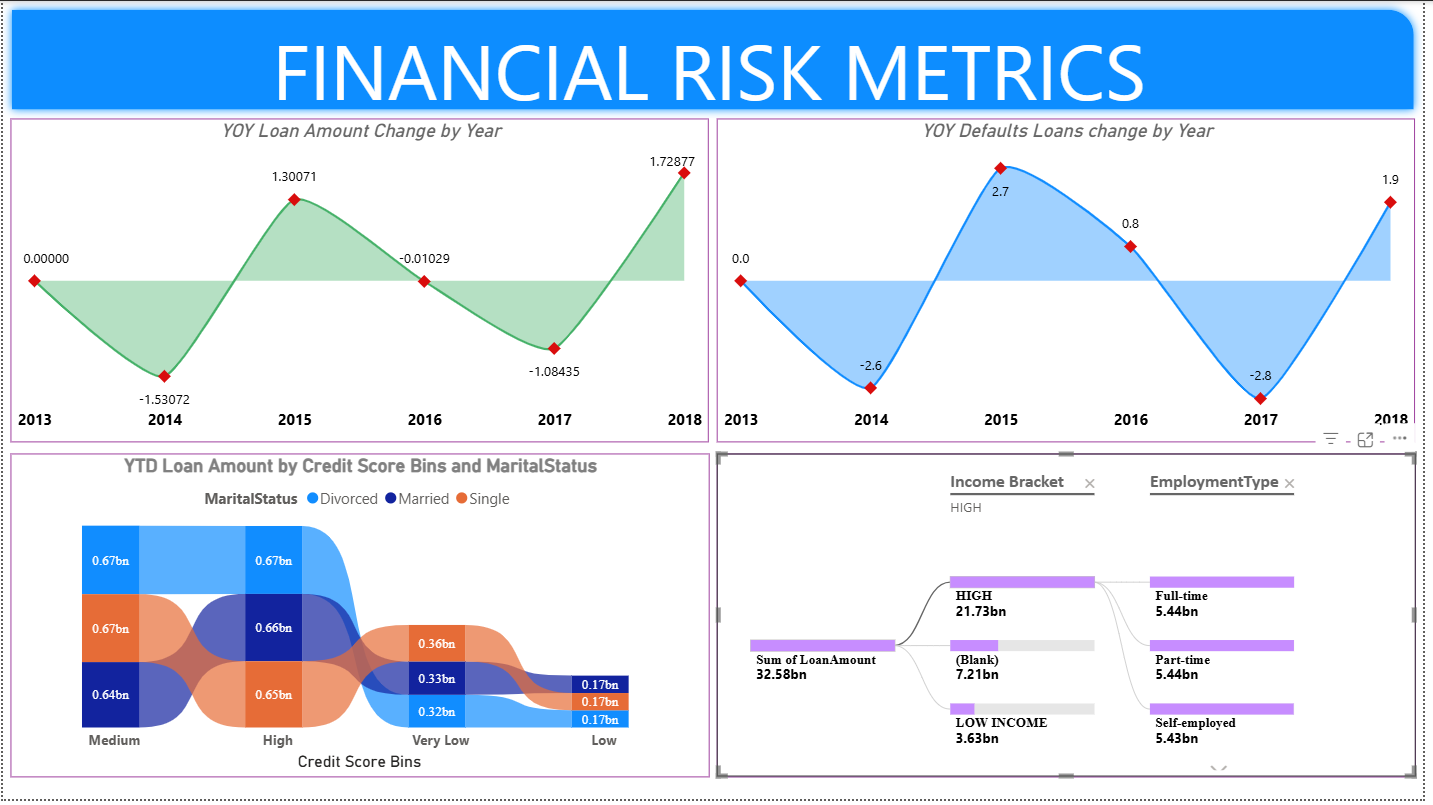

The dashboard page shown, as its layout file describes it:
{"tool":"powerbi","page":{"name":"FINANCIAL  RISK METRICS","canvas":[1280,720],"ordinal":2},"visuals":[{"type":"shape","box":[0,0,1280,105.7],"z":0},{"type":"lineChart","fields":{"Y":["MEASURES Table 3.YOY Loan Amount Change"],"Category":["Loan_default (1).Year"]},"box":[6.9,105.7,629.8,292.3],"z":1000},{"type":"lineChart","fields":{"Category":["Loan_default (1).Year"],"Y":["MEASURES Table 3.YOY Defaults Loans change"]},"box":[643.6,105.7,629.8,292.3],"z":2000},{"type":"ribbonChart","fields":{"Category":["Loan_default (1).Credit Score Bins"],"Series":["Loan_default (1).MaritalStatus"],"Y":["MEASURES Table 3.YTD Loan Amount"]},"box":[7,408,630,292],"z":3000},{"type":"decompositionTreeVisual","fields":{"Analyze":["Sum(Loan_default (1).LoanAmount)"],"ExplainBy":["Loan_default (1).Income Bracket","Loan_default (1).EmploymentType"]},"box":[644,408,630,292],"z":4000}]}

Visuals, with their boxes in screenshot pixels (x1, y1, x2, y2), scaled from the page's 1280x720 canvas onto the 1433x805 screenshot:
shape: rect(0, 0, 1432, 118)
lineChart - MEASURES Table 3.YOY Loan Amount Change x Loan_default (1).Year: rect(8, 118, 713, 445)
lineChart - Loan_default (1).Year x MEASURES Table 3.YOY Defaults Loans change: rect(721, 118, 1426, 445)
ribbonChart - Loan_default (1).Credit Score Bins x Loan_default (1).MaritalStatus: rect(8, 456, 713, 783)
decompositionTreeVisual - Sum(Loan_default (1).LoanAmount) x Loan_default (1).Income Bracket: rect(721, 456, 1426, 783)
